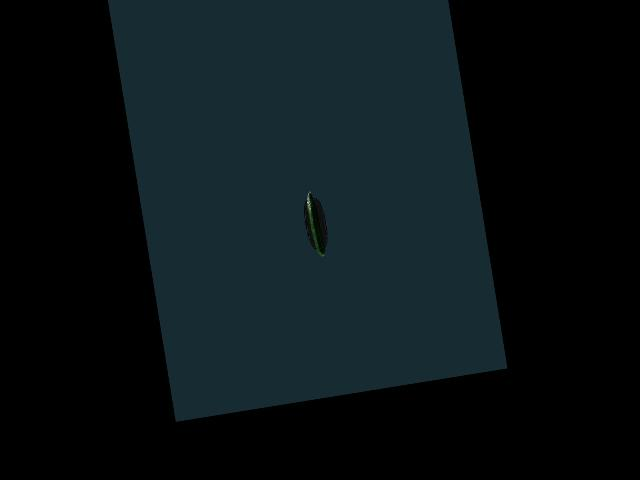cucumber: (305, 189, 326, 257)
